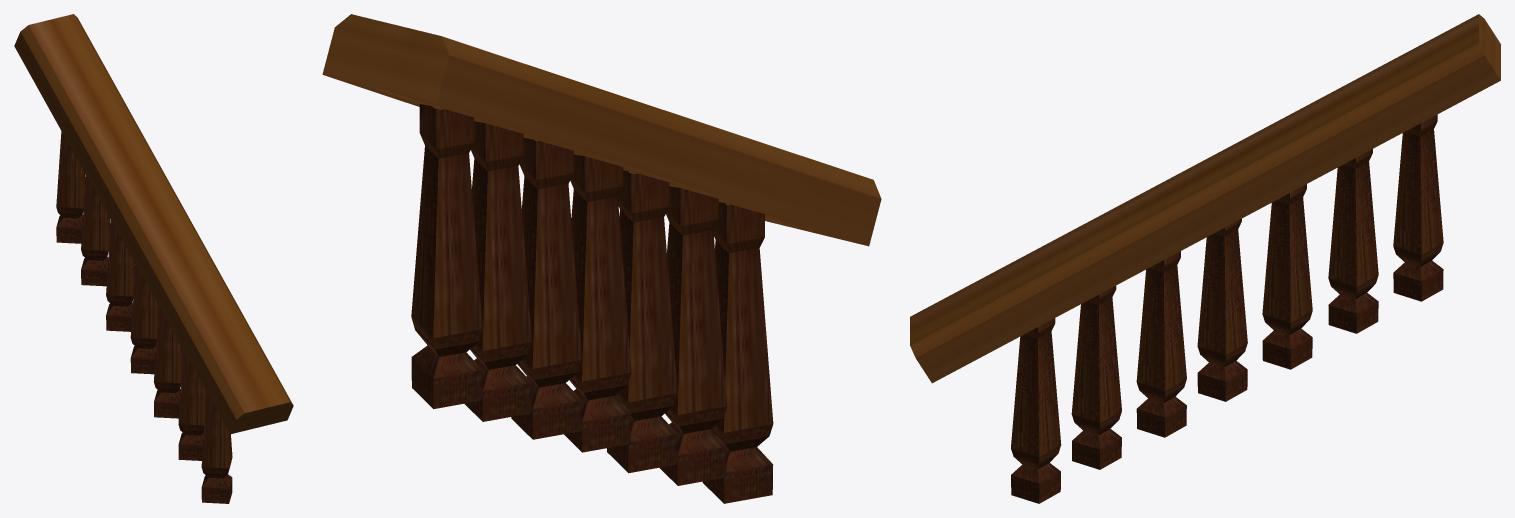
The model's file is Rails.fbx.
The picture shows the model from 3 angles, left to right: view 1: azimuth 30°, elevation 25°; view 2: azimuth 150°, elevation 25°; view 3: azimuth 270°, elevation 25°; orthographic projection. The views are drawn at different scales.
Visible parts, largest first — view 1: PorchRailLower.006; view 2: PorchRailLower.006; view 3: PorchRailLower.006.
Part boxes in pixels (x1,y1,x2,y2): PorchRailLower.006: [14, 14, 293, 503]; PorchRailLower.006: [322, 14, 881, 503]; PorchRailLower.006: [910, 14, 1500, 503].
Size of the model in its own units: 43.45 by 257 by 295.
